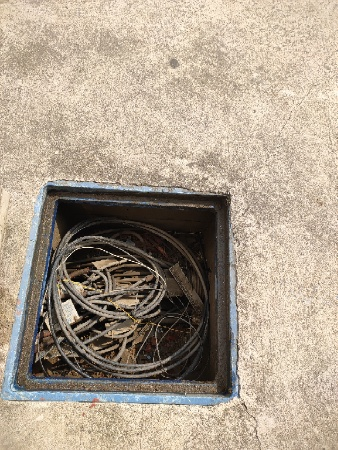lose: (1, 180, 242, 405)
